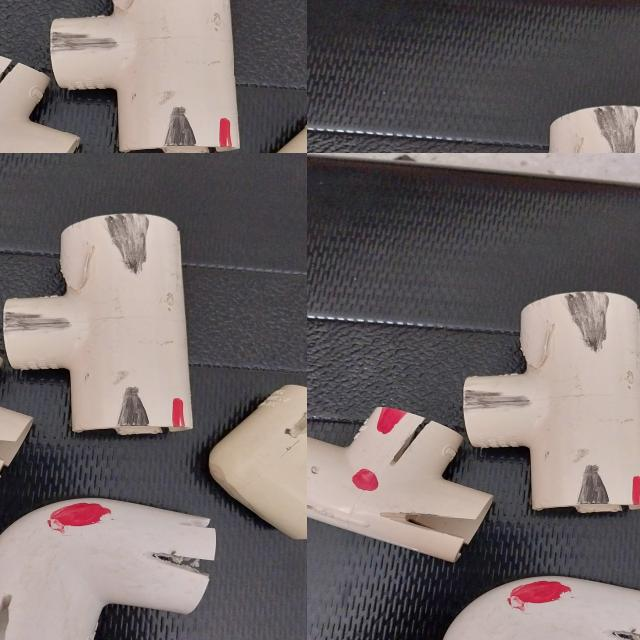Defective: (226, 33, 288, 85), (567, 292, 616, 354), (388, 510, 473, 542), (234, 35, 283, 76), (143, 83, 219, 109), (0, 68, 67, 97), (578, 464, 613, 512), (394, 424, 432, 467), (0, 73, 69, 95), (137, 89, 210, 107), (466, 393, 531, 412), (512, 586, 564, 606), (352, 469, 380, 494), (377, 409, 404, 430), (50, 134, 78, 153), (371, 5, 388, 32), (57, 133, 77, 153), (629, 475, 640, 508), (347, 0, 363, 10)
L Joint: (410, 575, 640, 640)
T Joint: (458, 292, 640, 514), (307, 397, 501, 565), (0, 45, 214, 153), (196, 0, 307, 143), (307, 0, 401, 60)
